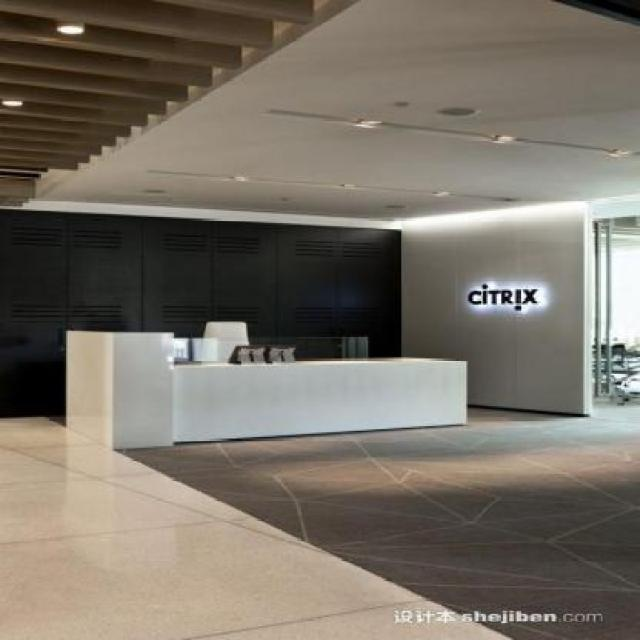frontdesk: (59, 320, 483, 458)
